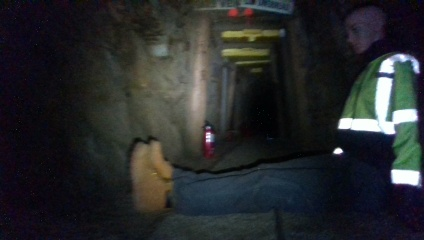fire_extinguisher: (199, 118, 215, 160)
manikin: (128, 7, 422, 224)
